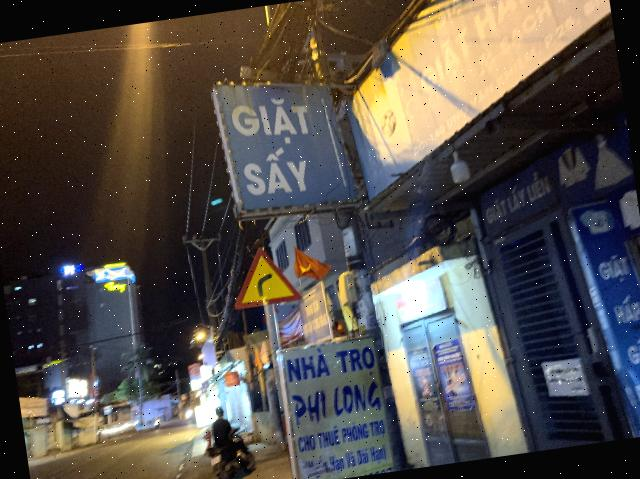cho-ngoat-nguy-hiem-ben-phai: (226, 241, 304, 311)
